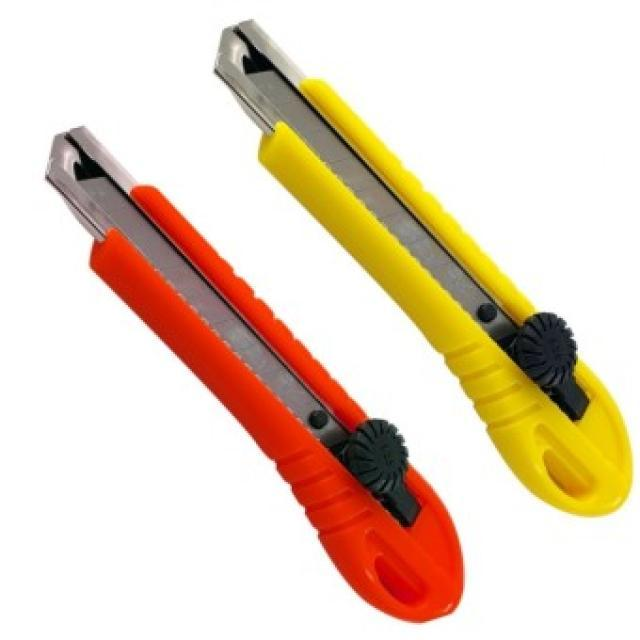cutter: (33, 121, 480, 634), (220, 3, 631, 526)
